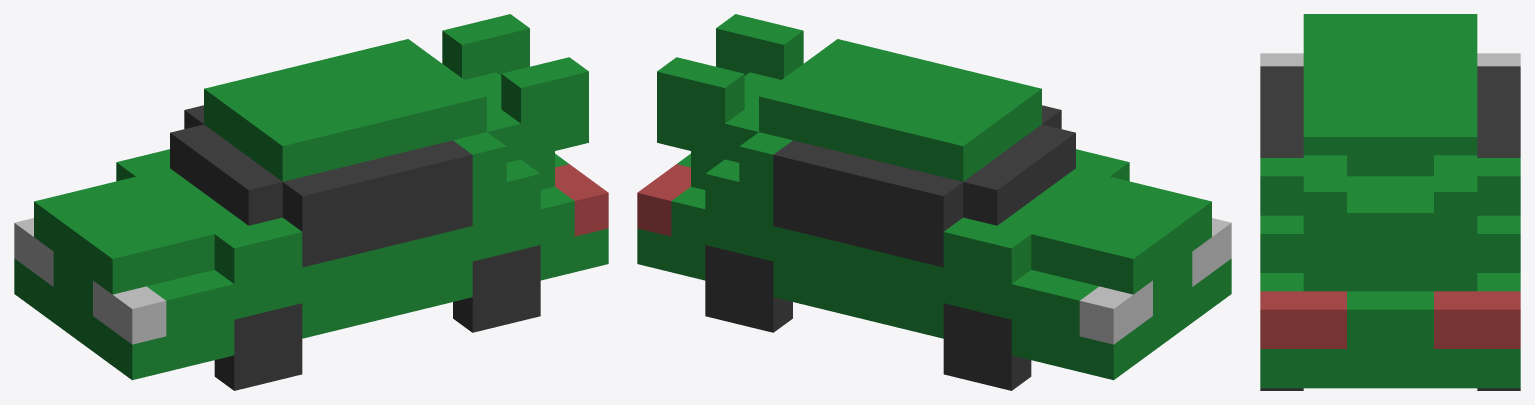
Rendered from racer-v5-green.gltf.
3 views of the same model, side by side, from view 1: azimuth 30°, elevation 25°; view 2: azimuth 150°, elevation 25°; view 3: azimuth 270°, elevation 25° (orthographic). The views are drawn at different scales.
Visible parts, largest first — view 1: model, wheels; view 2: model, wheels; view 3: model, wheels.
Part boxes in pixels (x1=…): model: x1=14, y1=14, x2=608, y2=380; wheels: x1=214, y1=245, x2=540, y2=390; model: x1=637, y1=14, x2=1231, y2=380; wheels: x1=705, y1=245, x2=1031, y2=390; model: x1=1260, y1=14, x2=1520, y2=388; wheels: x1=1260, y1=388, x2=1520, y2=390.
Size of the model in its own units: 1.4 by 0.6 by 0.6.
2 materials, 2 textured.
